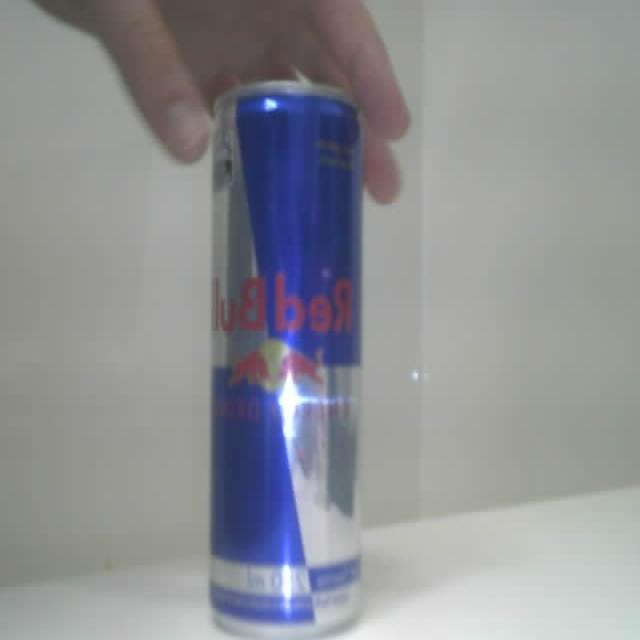redbull can: (210, 82, 361, 637)
